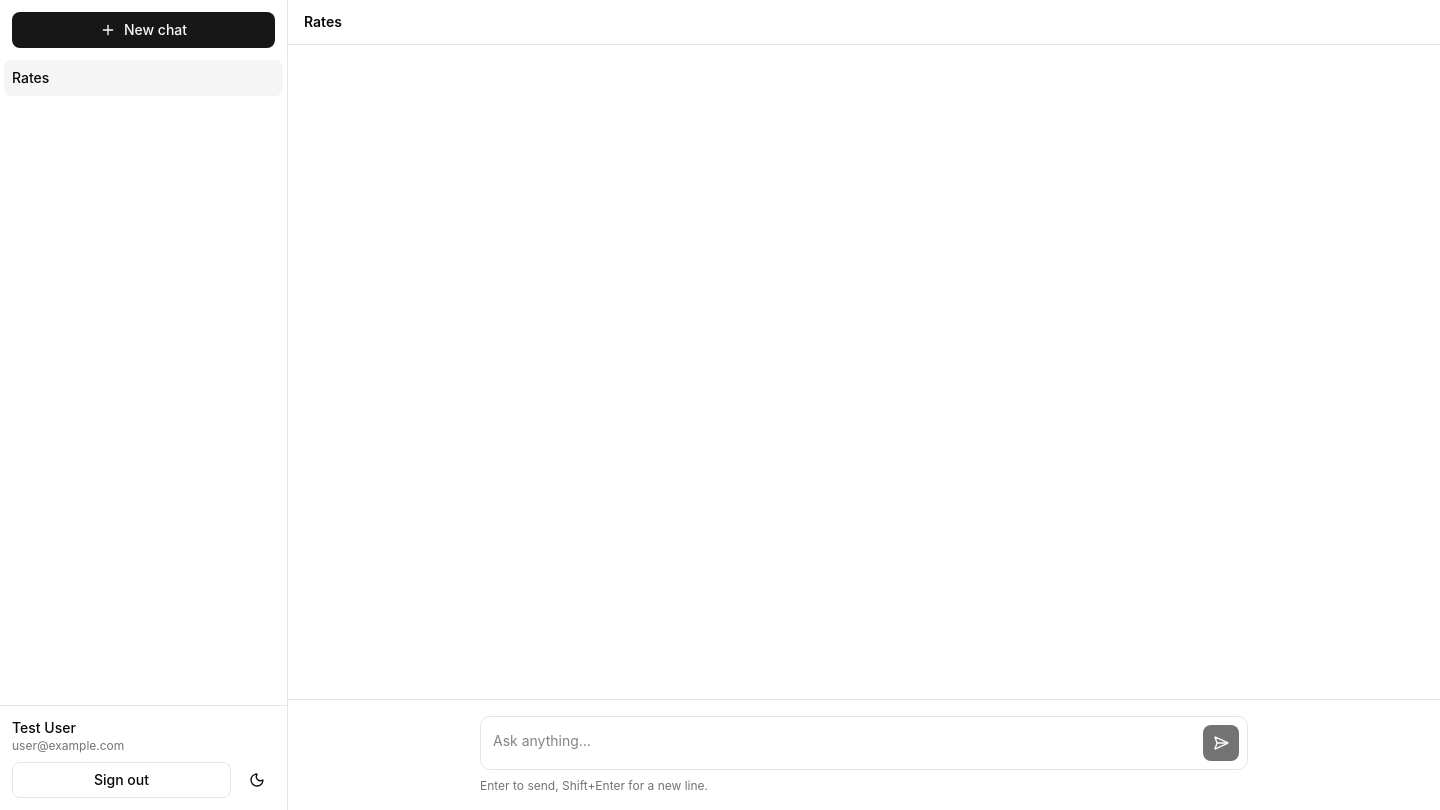
Scenario: stopping and retrying › treats a send that never reached the server as not sent
Check: the heading "Rates" is shown, box top-left (304, 13), bottom-right (342, 30)
In the text box named "message": {"x": 842, "y": 743} top-left (489, 725), bottom-right (1195, 761), type "hello?"
Then press Enter
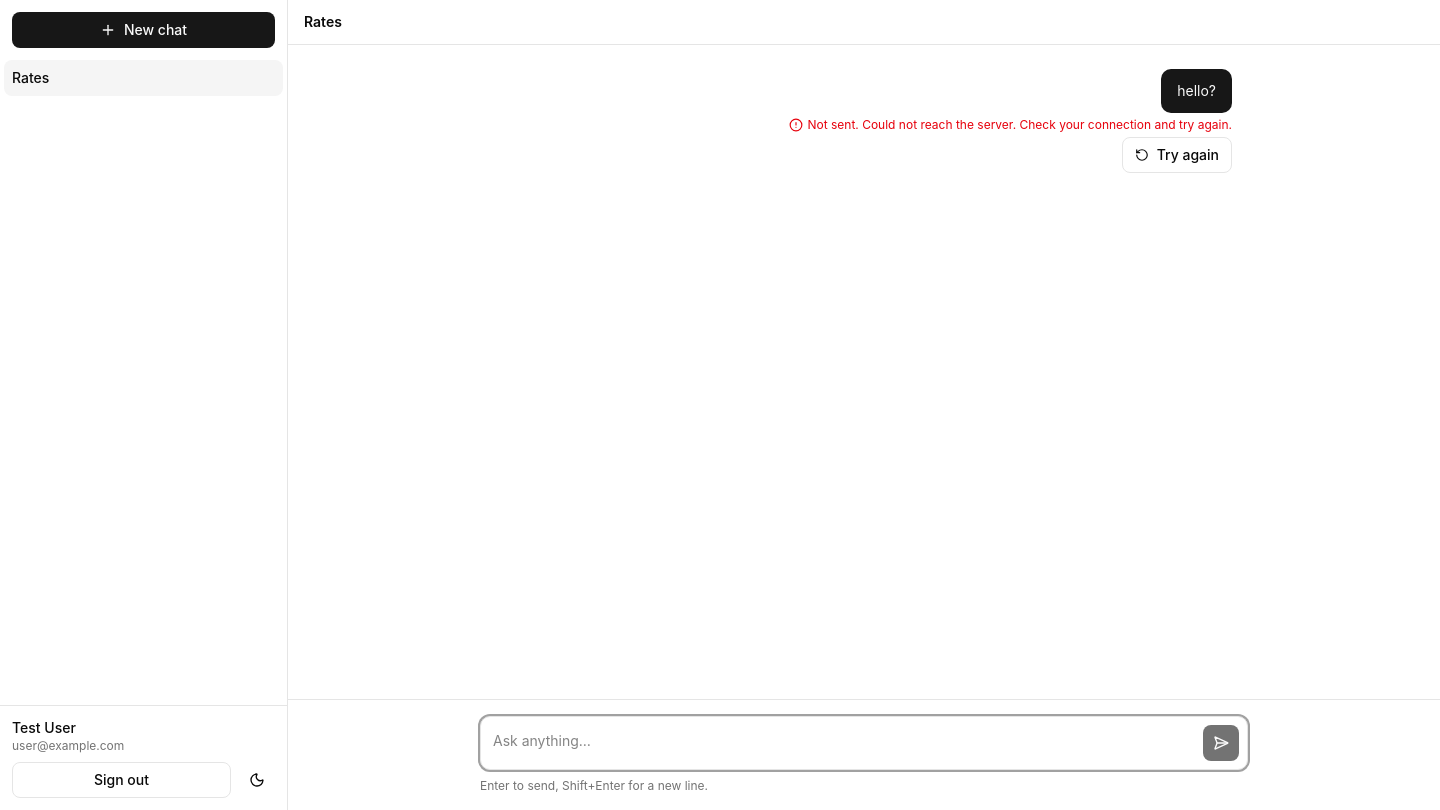
Check: the text "Not sent" shows "Could not reach the server", box top-left (862, 117), bottom-right (1232, 132)
